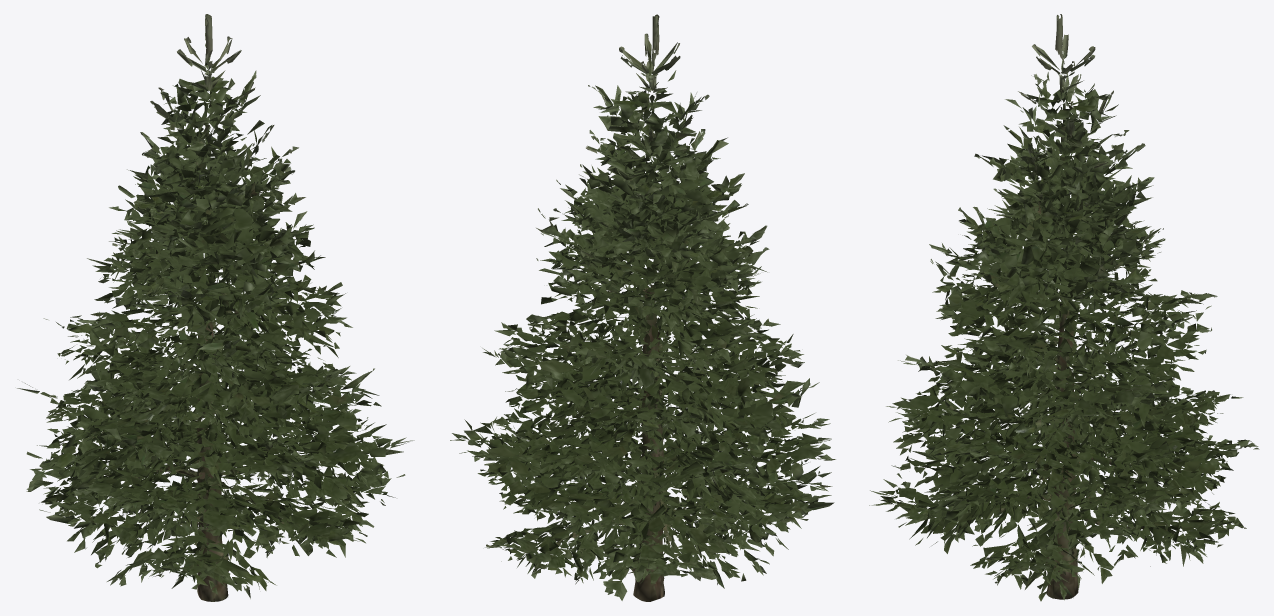
The model's file is pine.glb.
3 renders of one model, left to right at view 1: azimuth 30°, elevation 25°; view 2: azimuth 150°, elevation 25°; view 3: azimuth 270°, elevation 25°, orthographic.
Visible parts, largest first — view 1: Mesh_0; view 2: Mesh_0; view 3: Mesh_0.
Boxes of the visible parts, x1,y1,x2,y2 form: Mesh_0: (17, 14, 414, 601); Mesh_0: (450, 14, 835, 601); Mesh_0: (869, 14, 1259, 601).
Bounding box in the file's own units: 2.74 × 4.5 × 2.77.
Materials: 1 (1 with a texture image).
